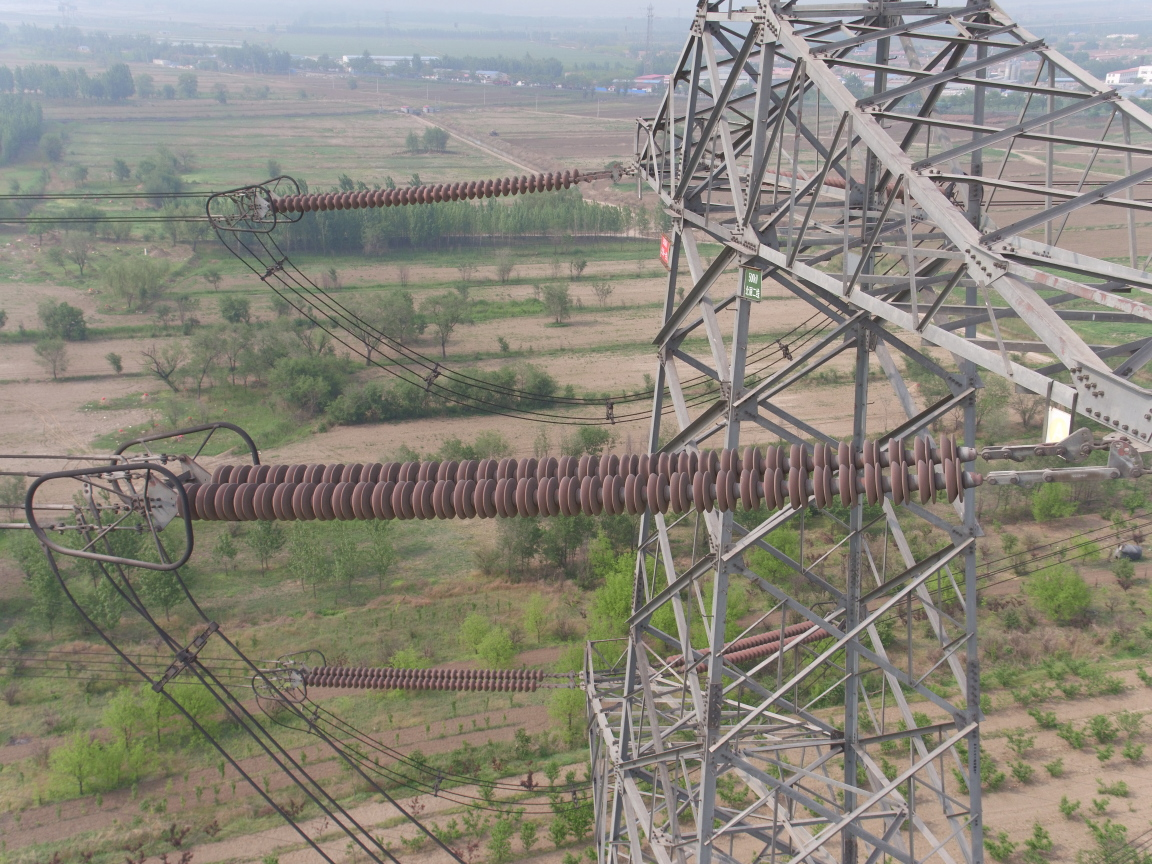insulator: (160, 429, 1033, 524), (262, 166, 605, 217), (297, 664, 564, 693)
